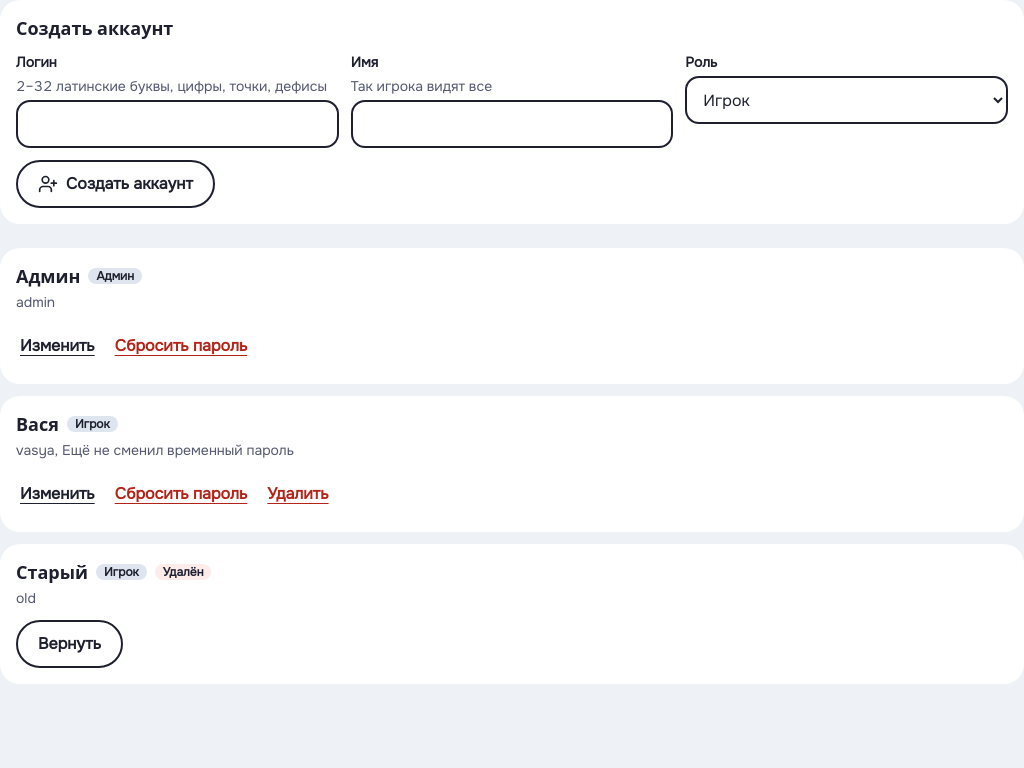
Test: The accounts › creates an account and shows its temporary password once
This screenshot has width=1024, height=768.
Click the button with test id "account-create" at (115, 184), box x1=16 y1=160 x2=215 y2=208
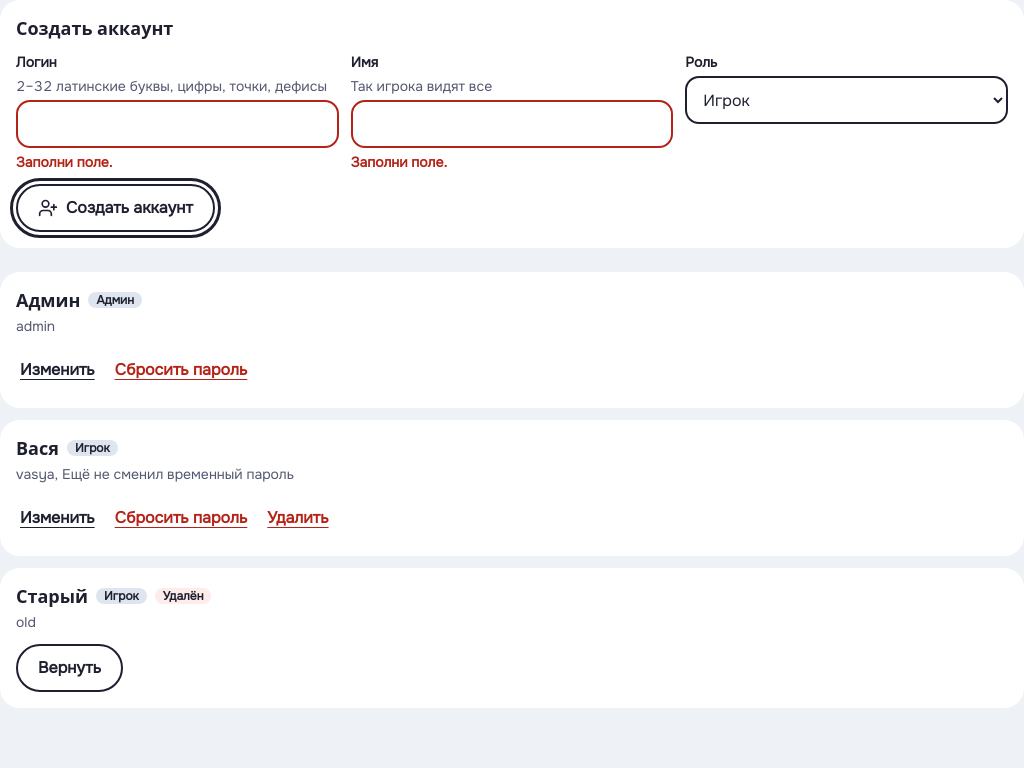
Expected: the text "Заполни поле." is shown 2 times, x1=16 y1=153 x2=113 y2=171; x1=351 y1=153 x2=447 y2=171
Type "sova" into the field with test id "account-login" at (177, 124), box x1=16 y1=100 x2=339 y2=148
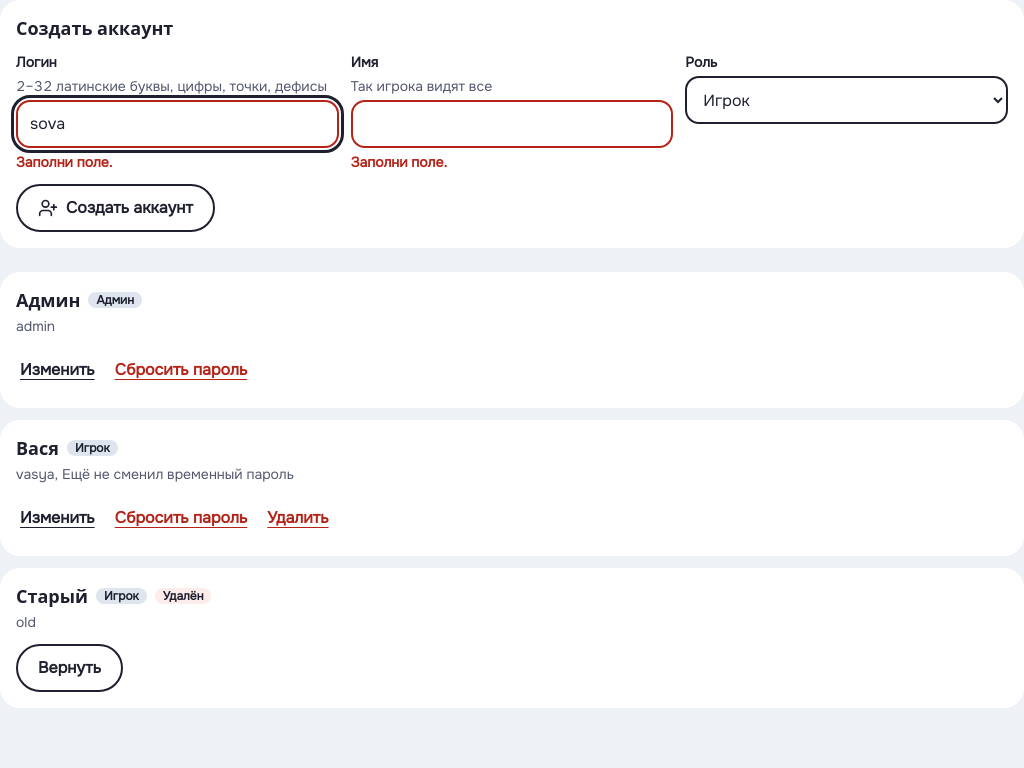
Type "Сова" into the field with test id "account-name" at (512, 124), box x1=351 y1=100 x2=673 y2=148
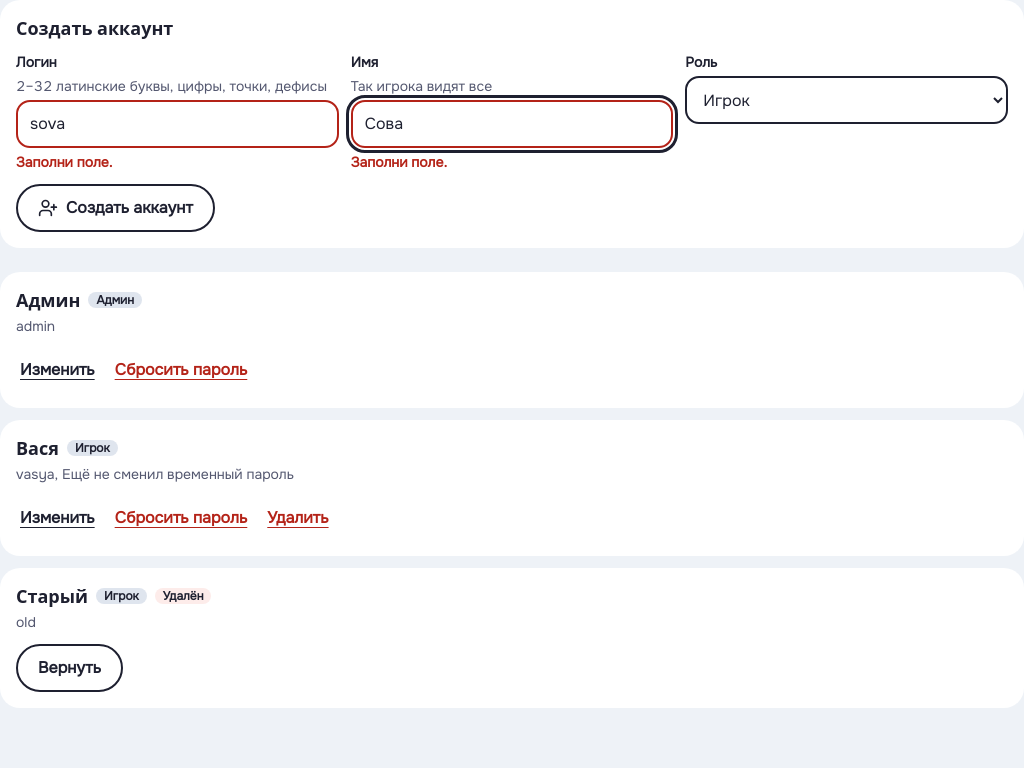
Select "Зритель" in the dropdown with test id "account-role" at (847, 100), box x1=685 y1=76 x2=1008 y2=124
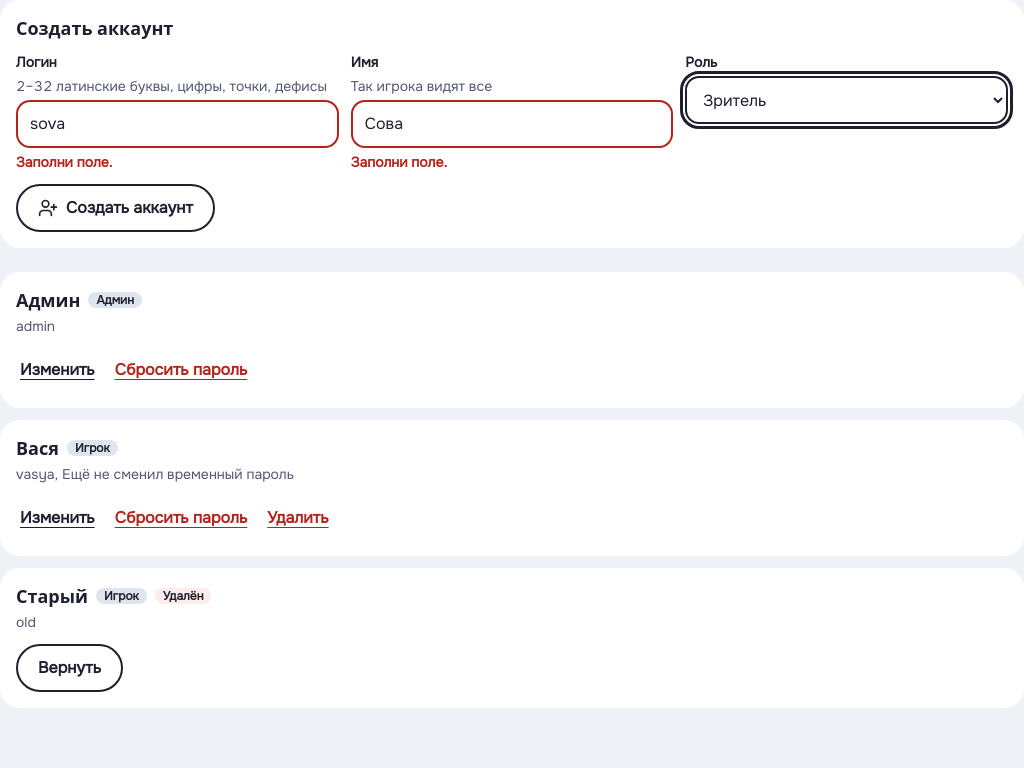
Click the button with test id "account-create" at (115, 208), box x1=16 y1=184 x2=215 y2=232
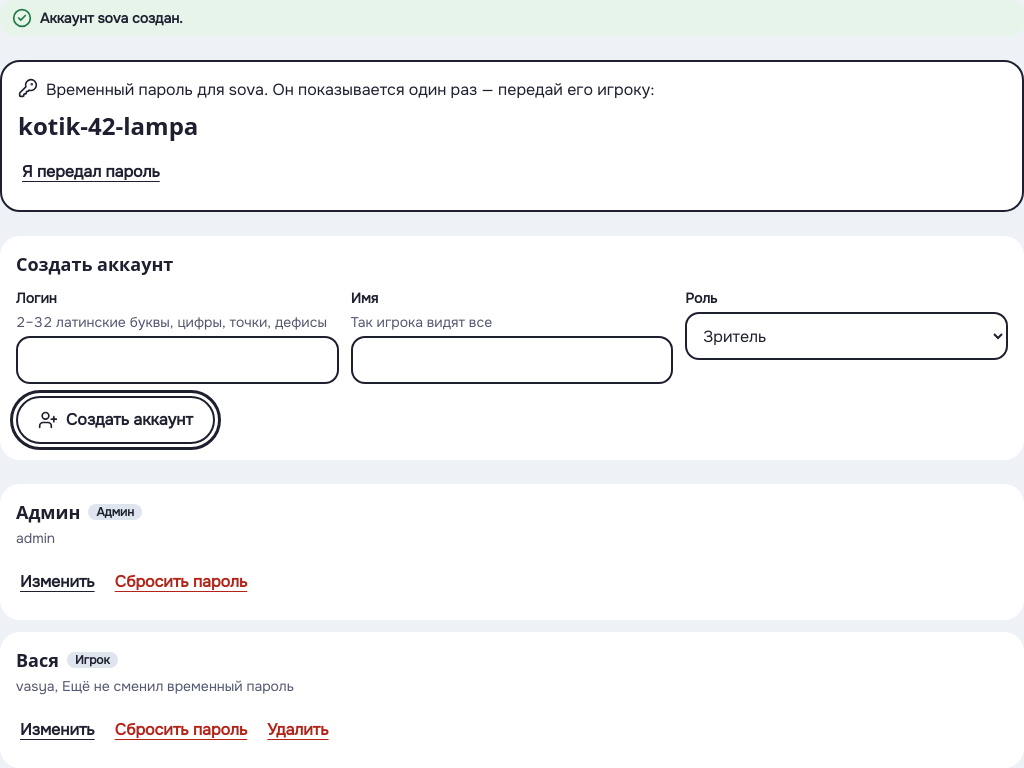
Expected: the element with test id "temporary-password" shows "kotik-42-lampa", x1=18 y1=109 x2=198 y2=142
Click the button "Я передал пароль" at (91, 172), box x1=18 y1=150 x2=164 y2=194
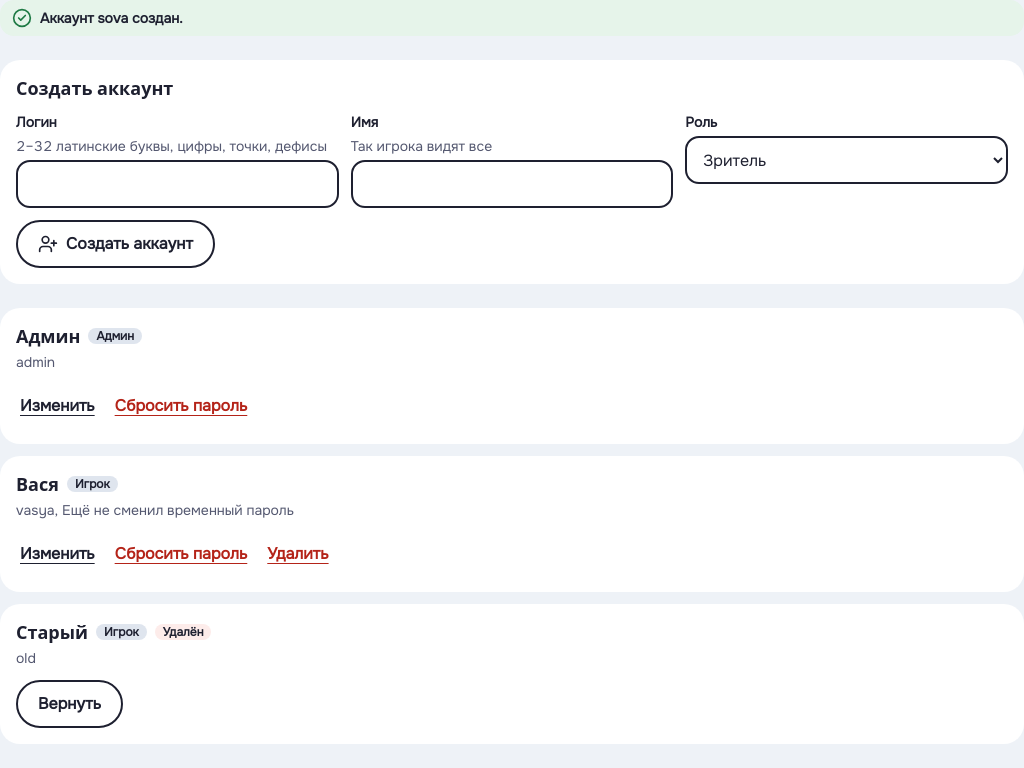
Expected: the element with test id "temporary-password" is gone
